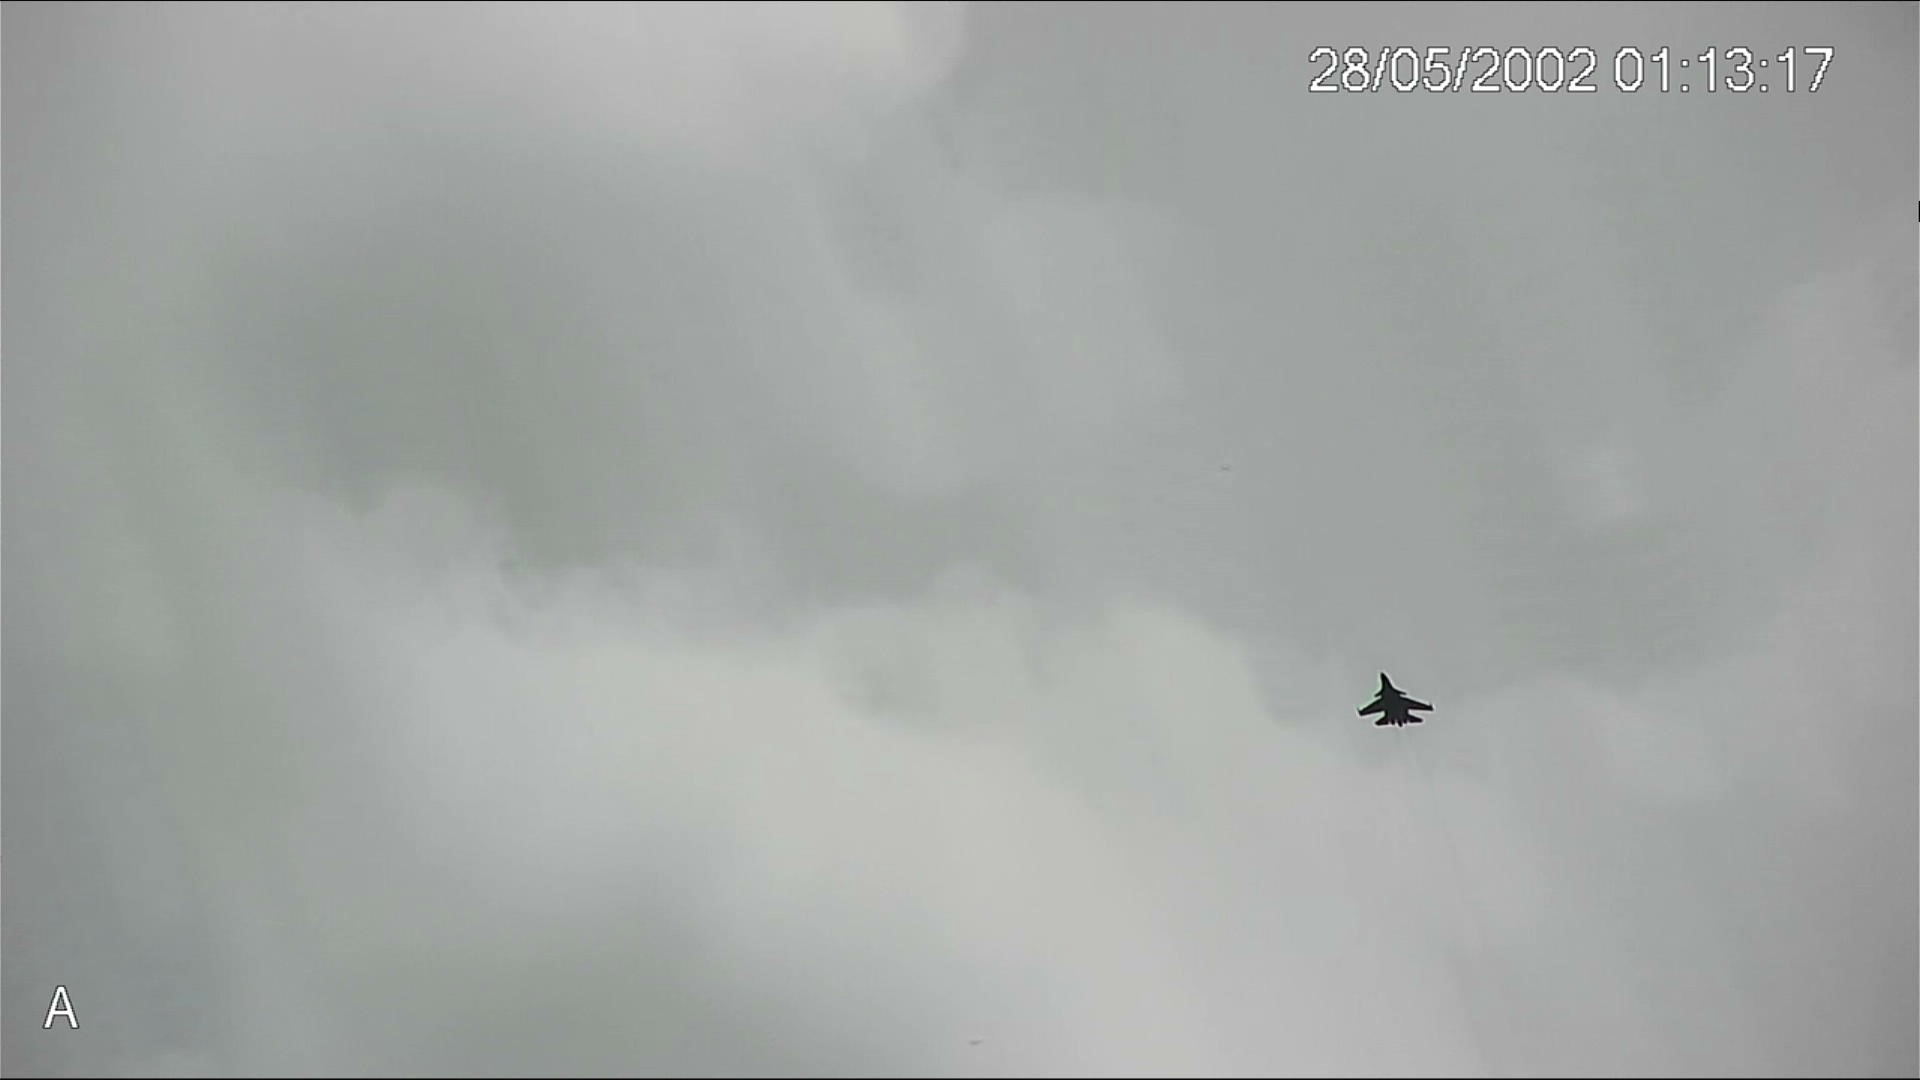SU_30: (1354, 669, 1433, 735)
